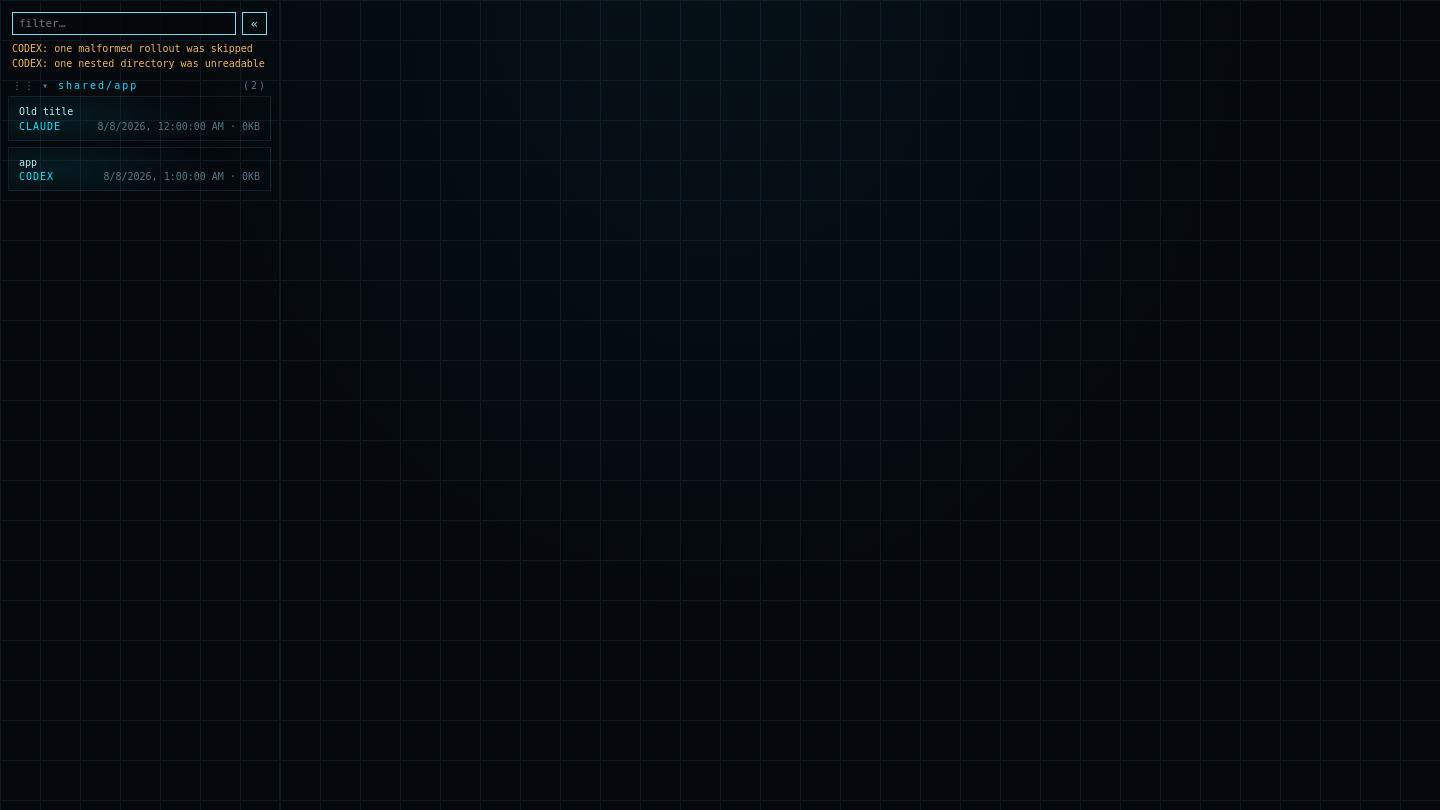
Scenario: mixed-provider library › reads a legacy Claude title but saves edits under the provider-qualified key
The image size is (1440, 810).
Double-click the text "Old title" at (46, 112), box top-left (19, 106), bottom-right (73, 117)
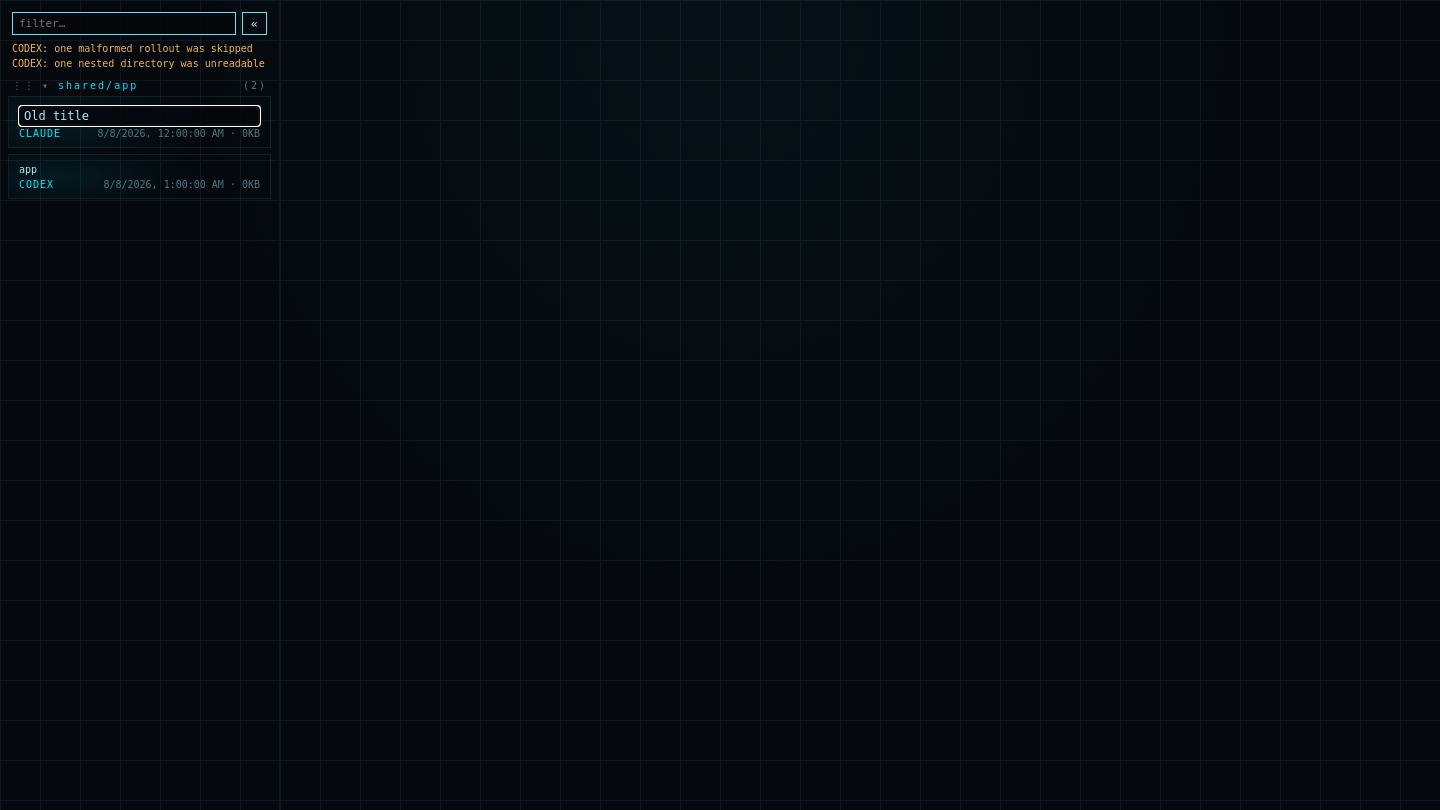
Replace the text in the field with test id "session-rename-legacy-id" with "New title" at (140, 116), box top-left (19, 106), bottom-right (260, 126)
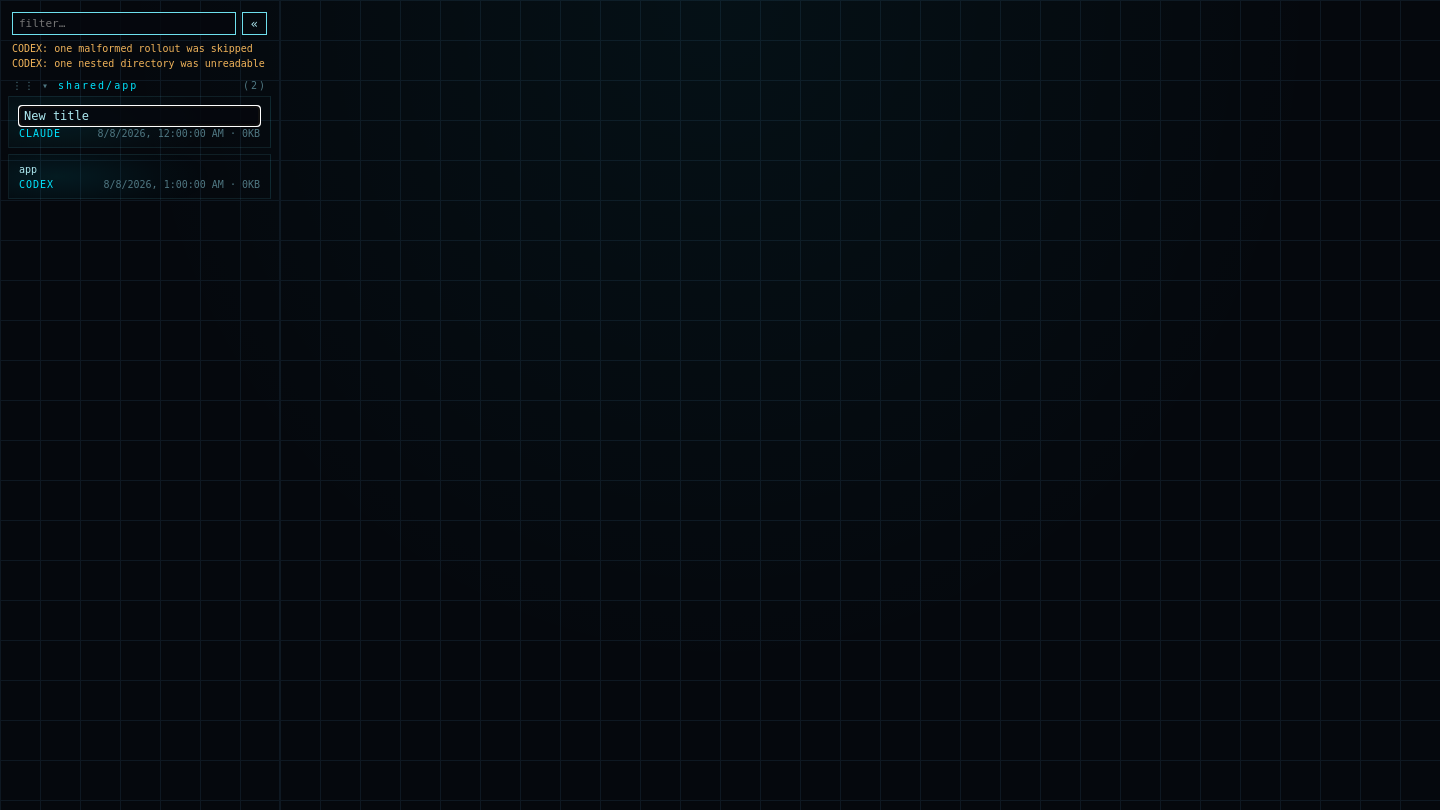
Press Enter in the field with test id "session-rename-legacy-id", box top-left (19, 106), bottom-right (260, 126)
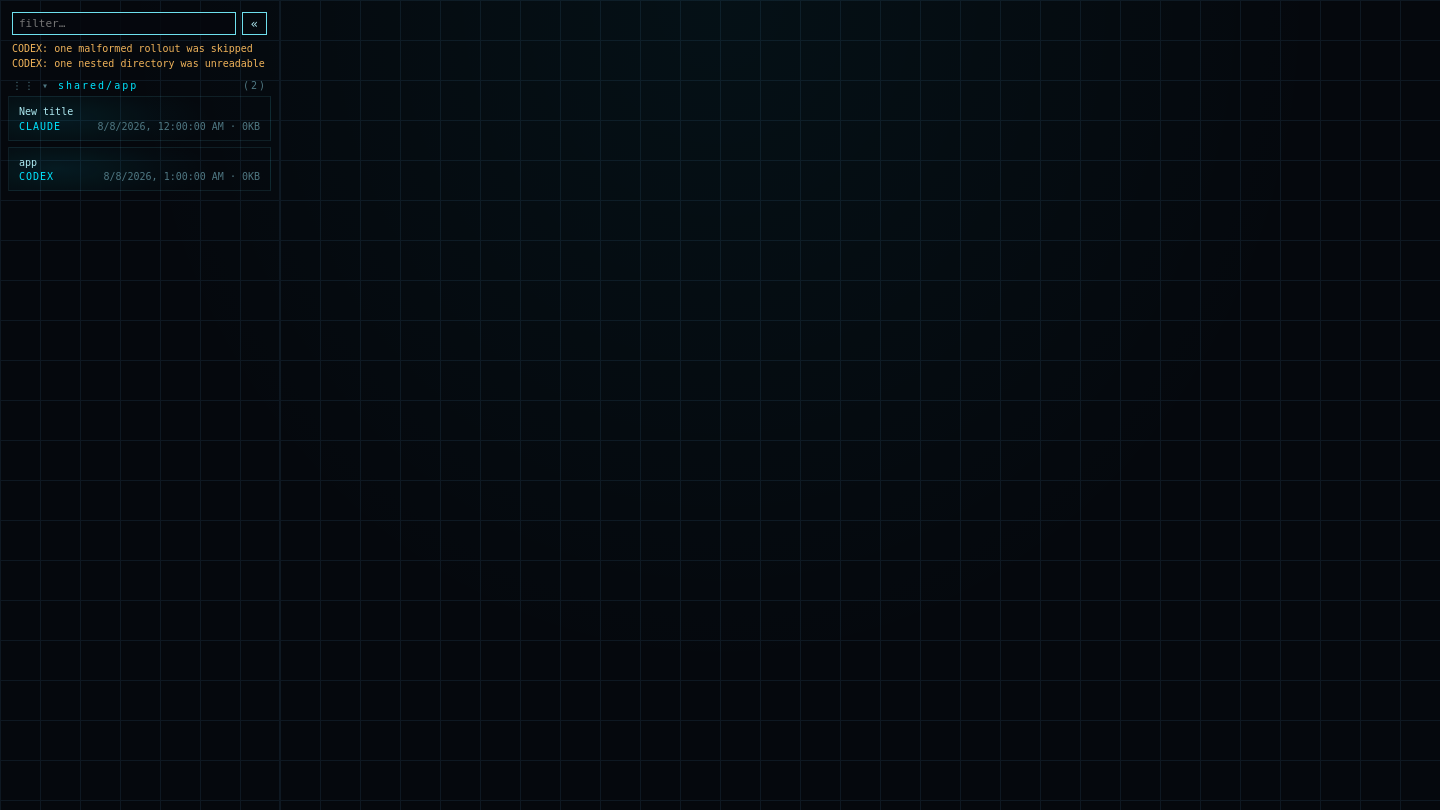
Expected: the text "New title" is shown, top-left (19, 106), bottom-right (73, 117)
